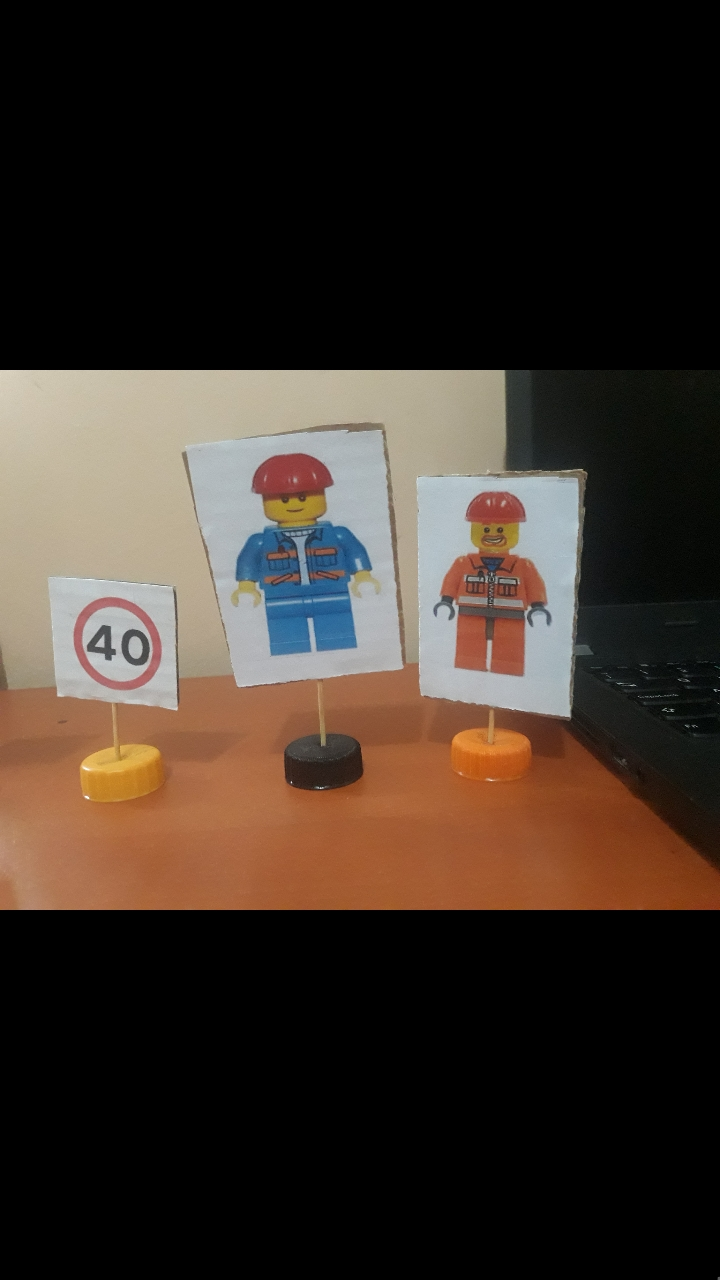40 kph: (59, 586, 167, 708)
pedestrian: (218, 443, 393, 676), (424, 480, 567, 714)
